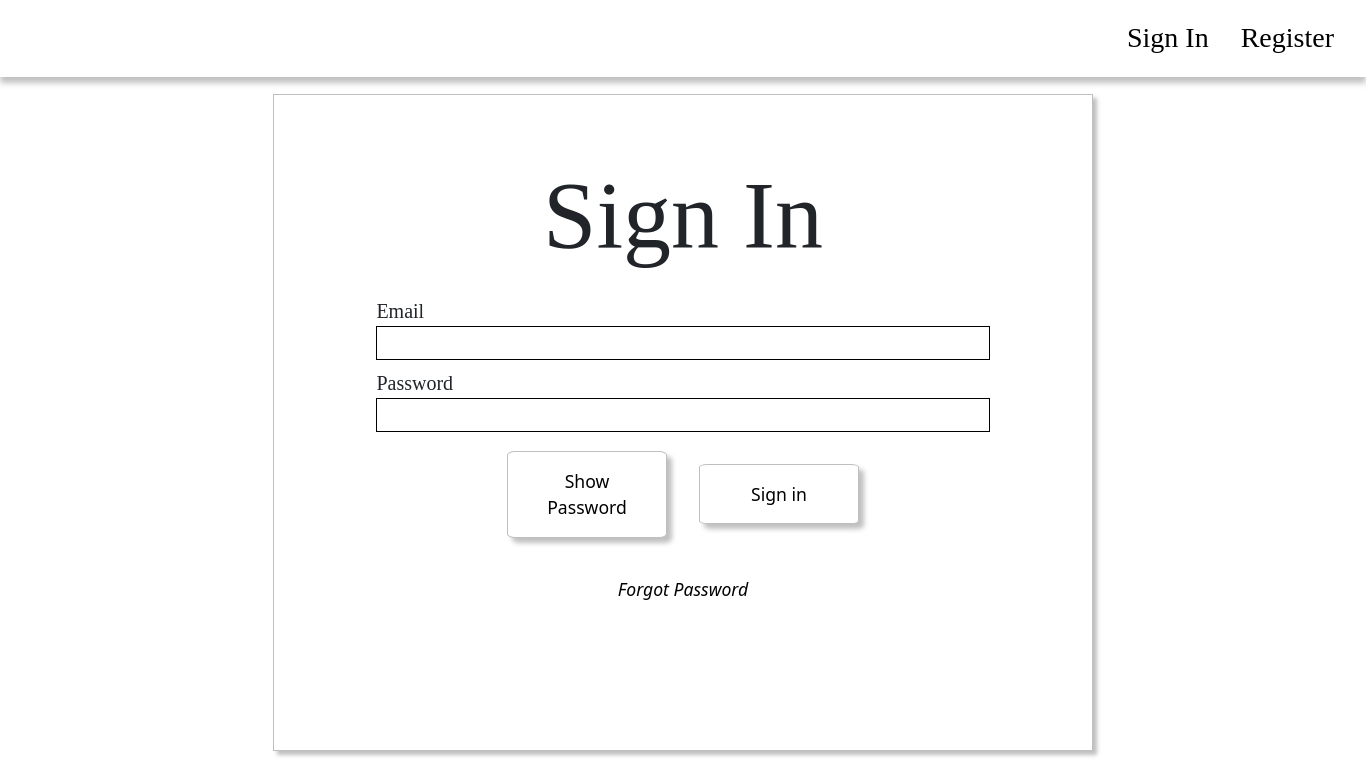
Test: <App /> › Valid Flow 1.2: Create Account Part 2 => enter valid registration email and password and be sent to home page
Click the link named "register_text".
click(1287, 38)  # box [1241, 22, 1334, 53]
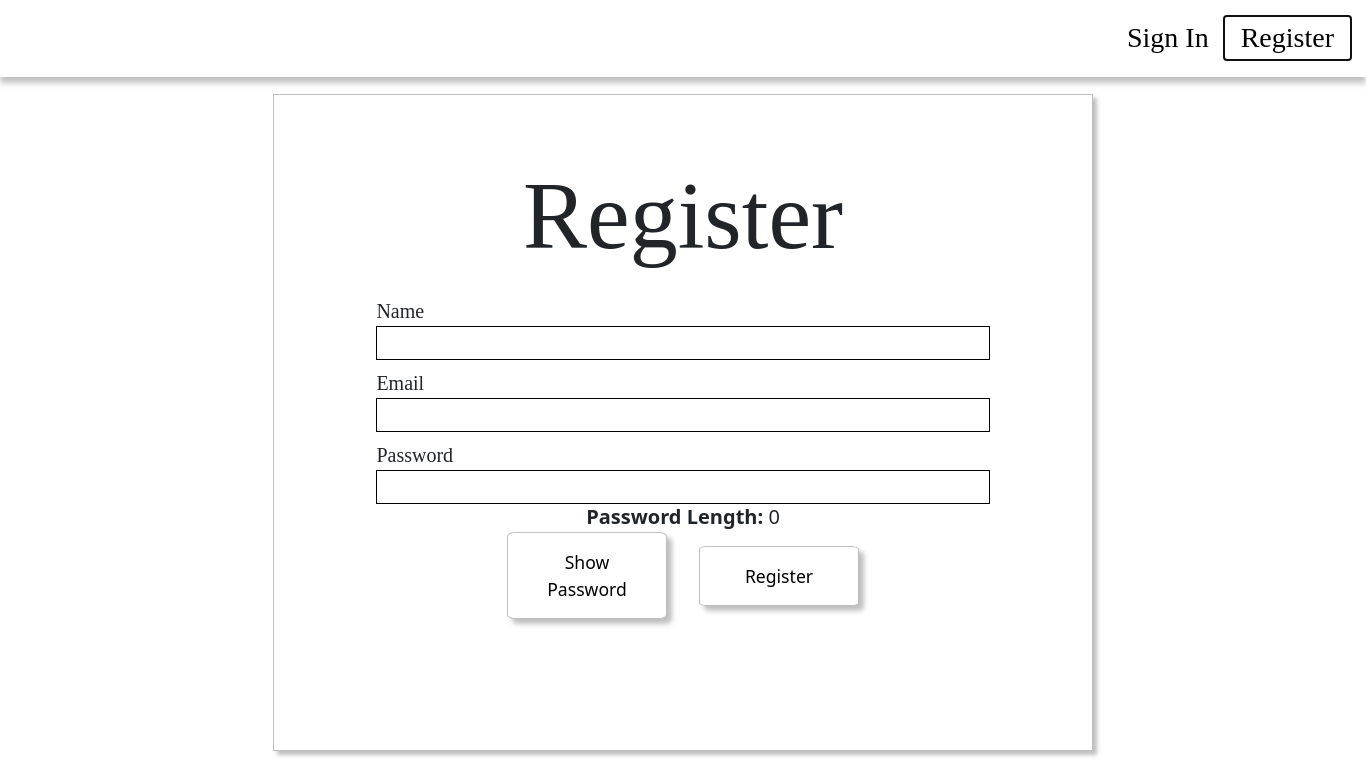
Check: the element "Register Name Email Password" is shown, box [376, 144, 990, 499]
Type "Jim" into the field labelled "Name".
click(683, 343); type("Jim")  # box [376, 326, 990, 360]
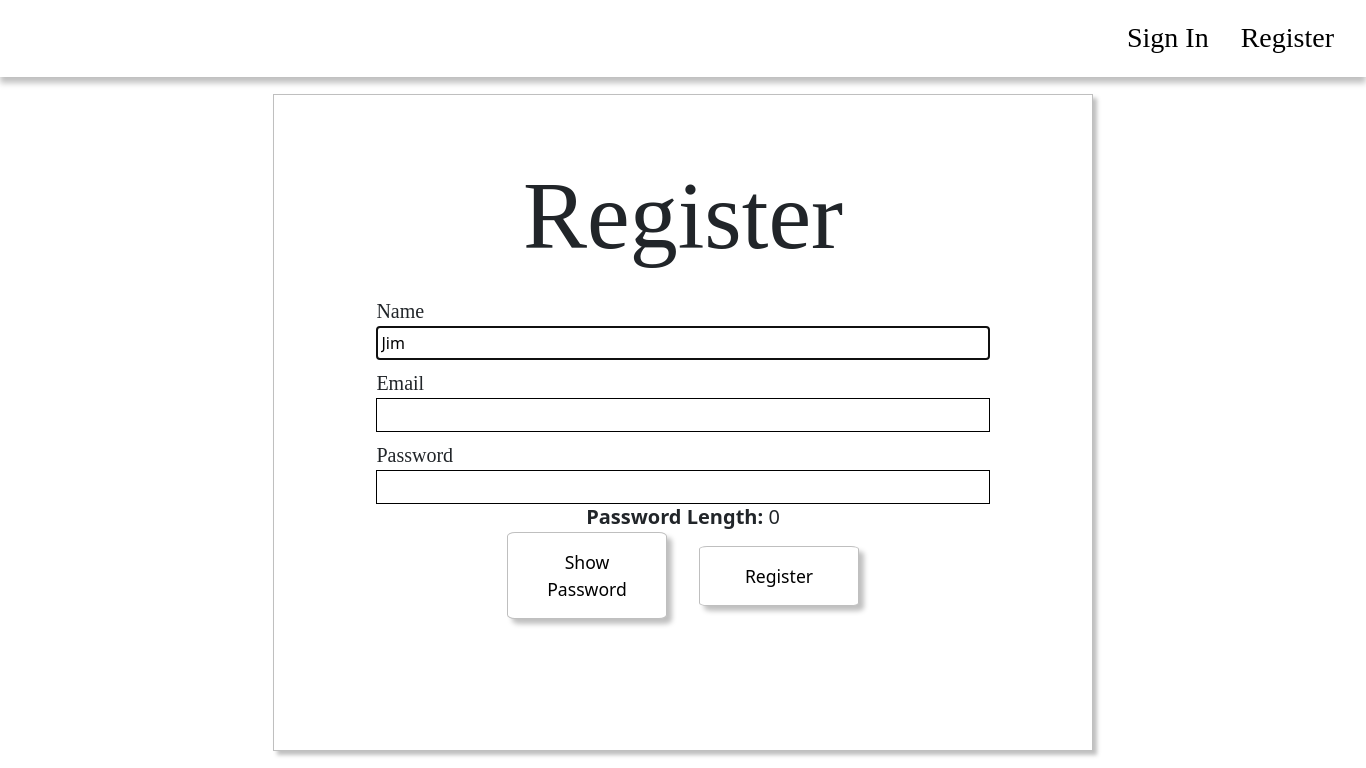
Type "test@gmail.com" into the field labelled "Email".
click(683, 415); type("test@gmail.com")  # box [376, 398, 990, 432]
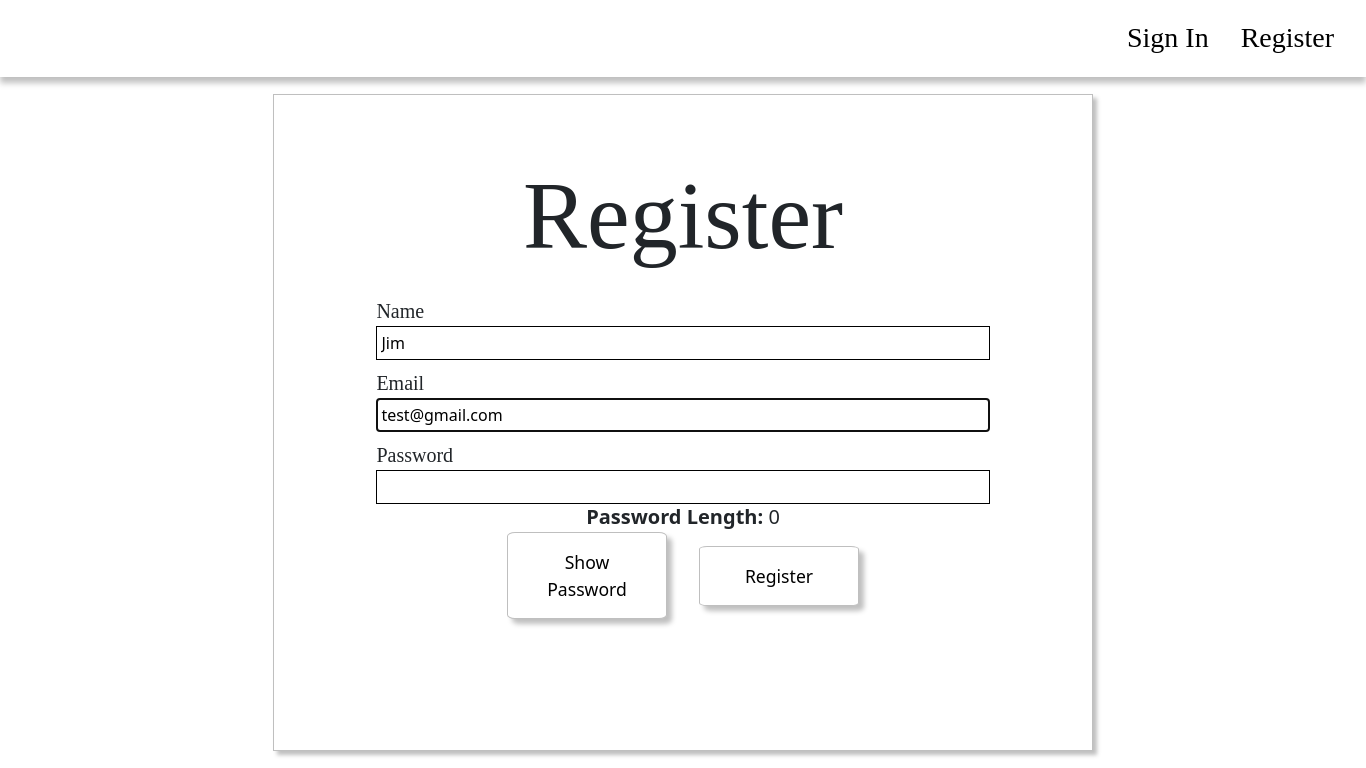
Type "PasswordLong-101!" into the password field.
click(683, 487); type("PasswordLong-101!")  # box [376, 470, 990, 504]
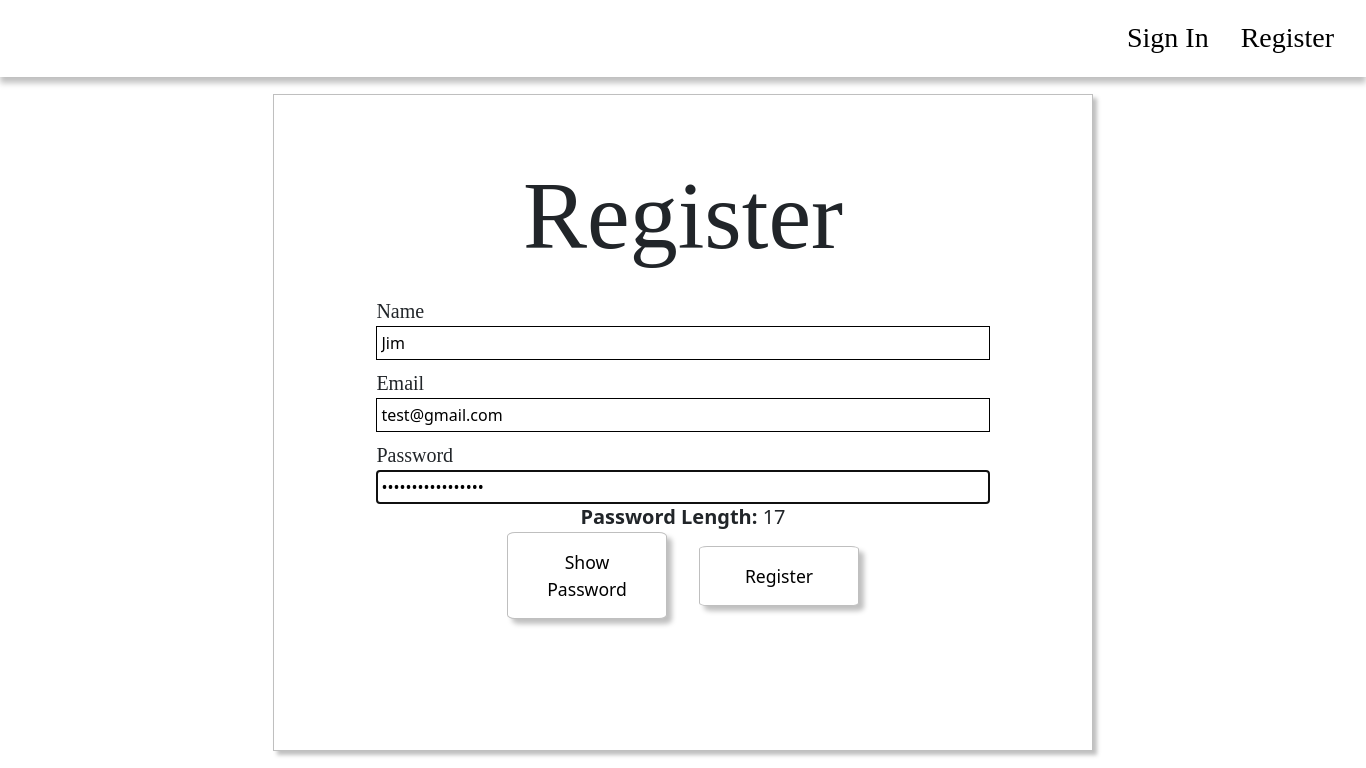
Click the button with aria-label "show_hide_button".
click(587, 576)  # box [507, 532, 667, 619]
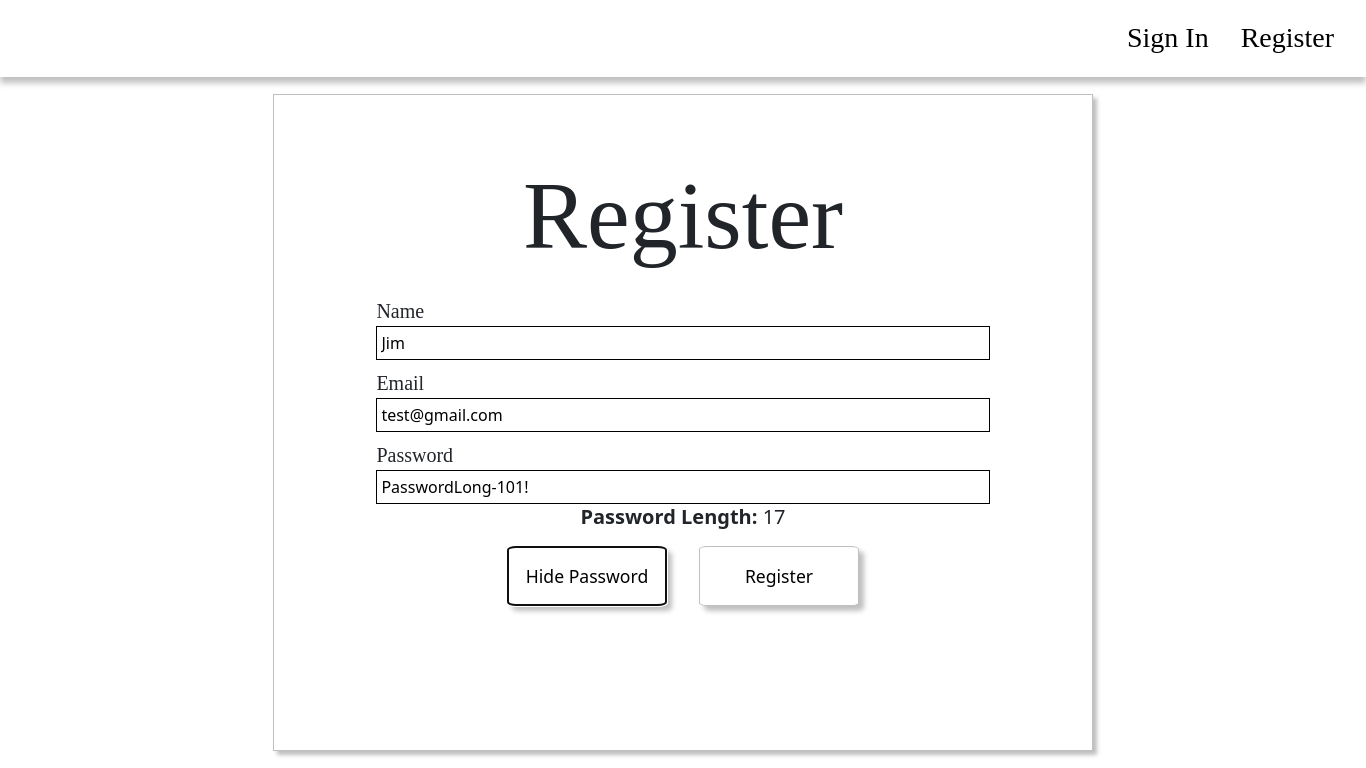
Click the button with aria-label "register_submit_button".
click(779, 576)  # box [699, 546, 859, 606]
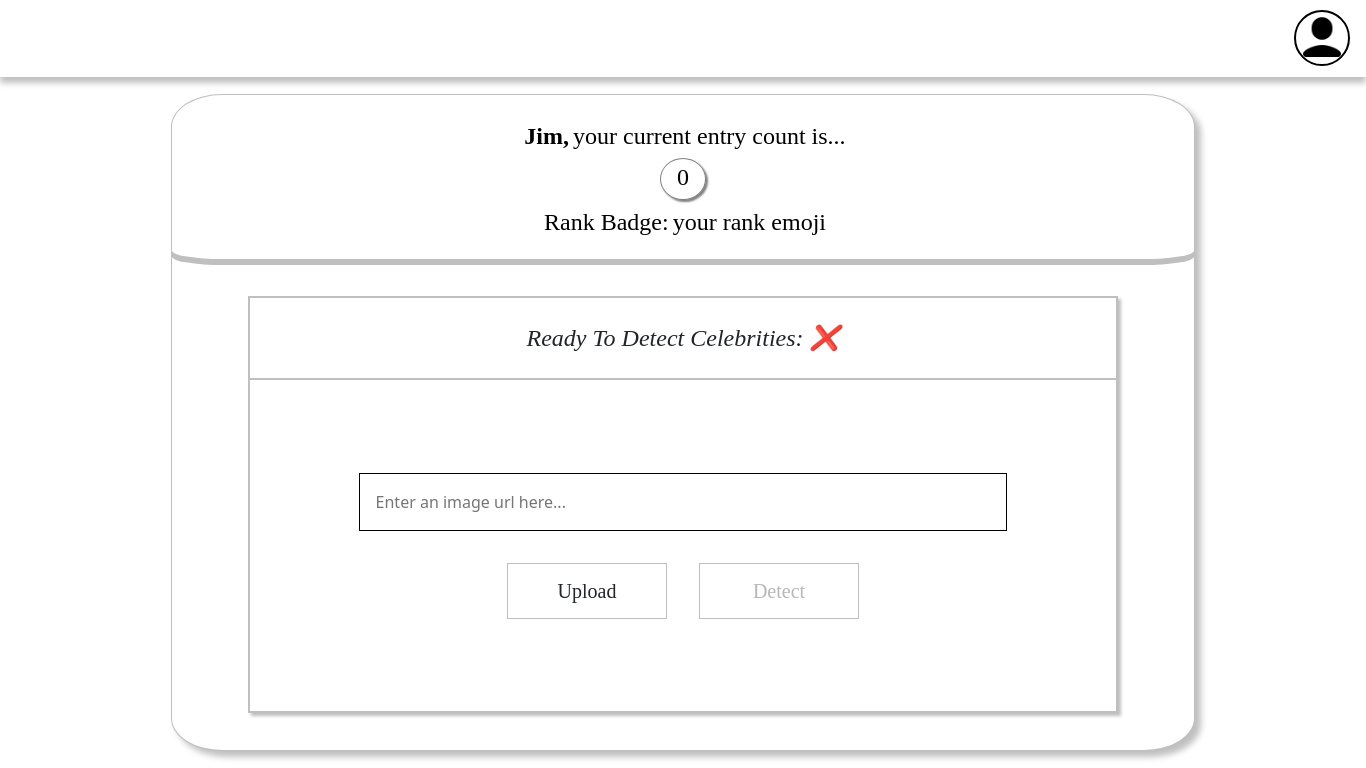
Check: the element named "intro-entry-count" reads "Jim, your current entry count is...", box [520, 118, 846, 154]
Check: the element named "entries-entry-count" reads "0", box [677, 164, 689, 190]
